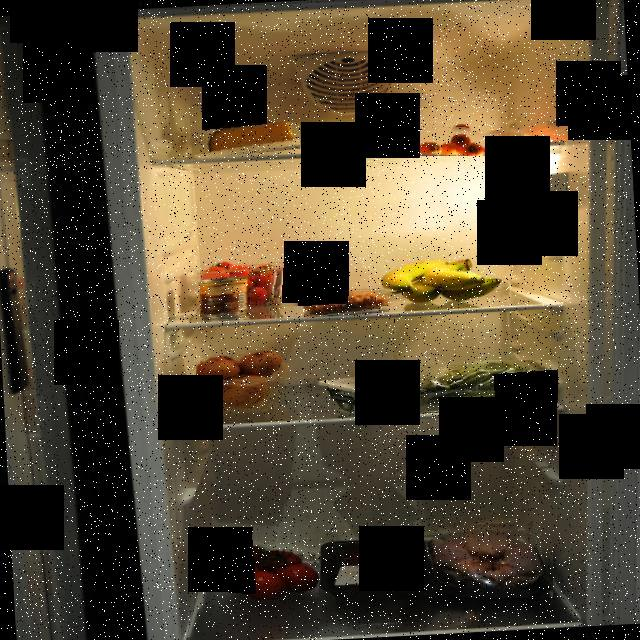banana: (376, 252, 504, 306)
beef: (342, 544, 420, 594)
carrot: (364, 117, 524, 156)
cheese: (204, 122, 300, 158)
chicken: (428, 520, 554, 598)
goat_cheese: (316, 372, 394, 415)
green_beans: (400, 360, 558, 414)
onion: (196, 350, 286, 411)
shrimp: (304, 289, 390, 317)
strawberries: (200, 262, 301, 318)
tomato: (218, 530, 320, 600)
